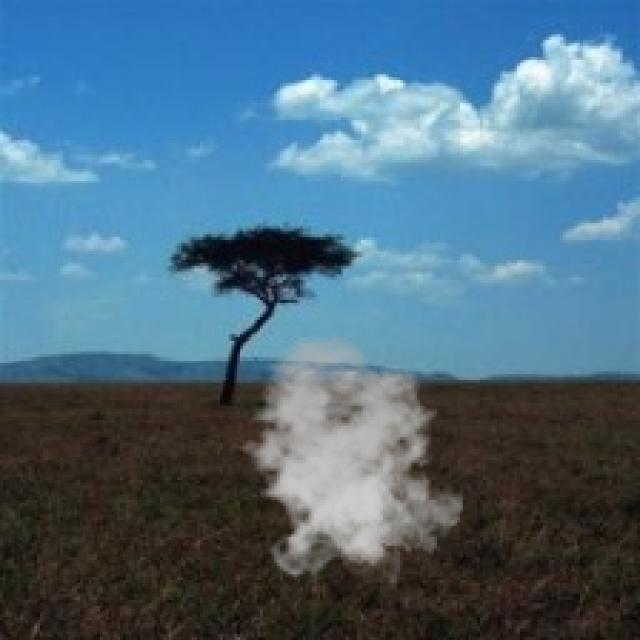Smoke: (228, 334, 463, 583)
